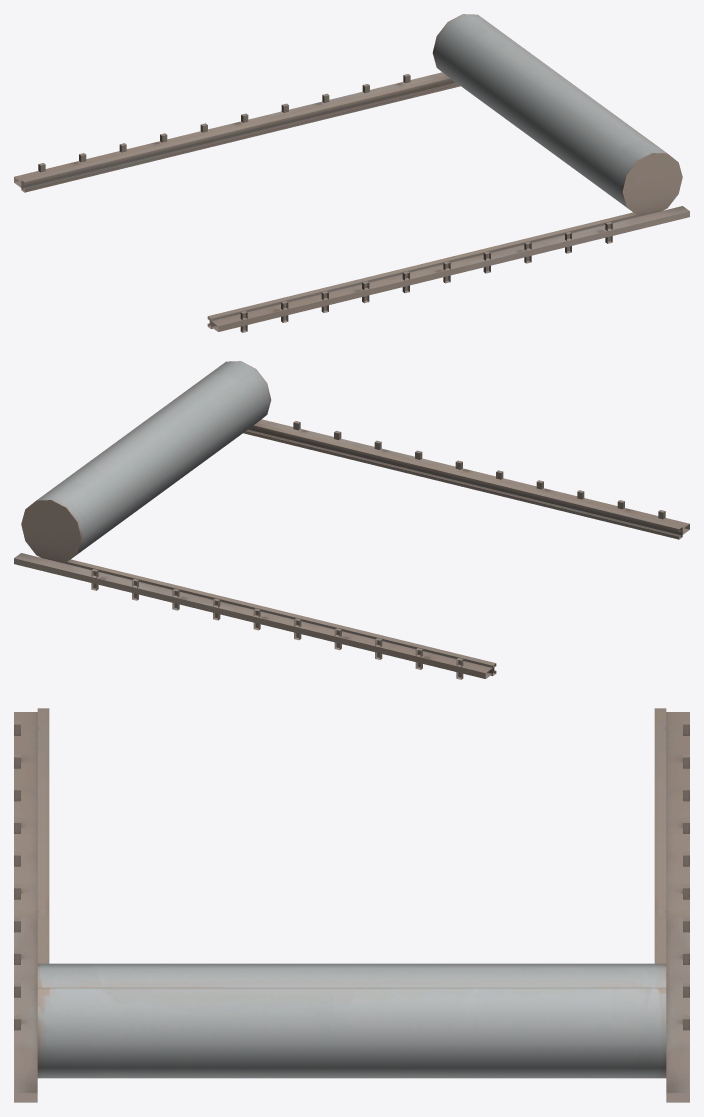
File: props_gameplay_door_slide_frame.glb
The picture shows the model from 3 angles, top to bottom: view 1: azimuth 30°, elevation 25°; view 2: azimuth 150°, elevation 25°; view 3: azimuth 270°, elevation 25°; orthographic projection. The views are drawn at different scales.
Visible parts, largest first — view 1: models/props_gameplay/door_slide_frame; view 2: models/props_gameplay/door_slide_frame; view 3: models/props_gameplay/door_slide_frame.
Boxes of the visible parts, x1,y1,x2,y2 form: models/props_gameplay/door_slide_frame: (14,14,689,332); models/props_gameplay/door_slide_frame: (14,361,689,679); models/props_gameplay/door_slide_frame: (14,708,689,1102).
Bounding box in the file's own units: 128 × 18.89 × 96.
Materials: 1 (1 with a texture image).
